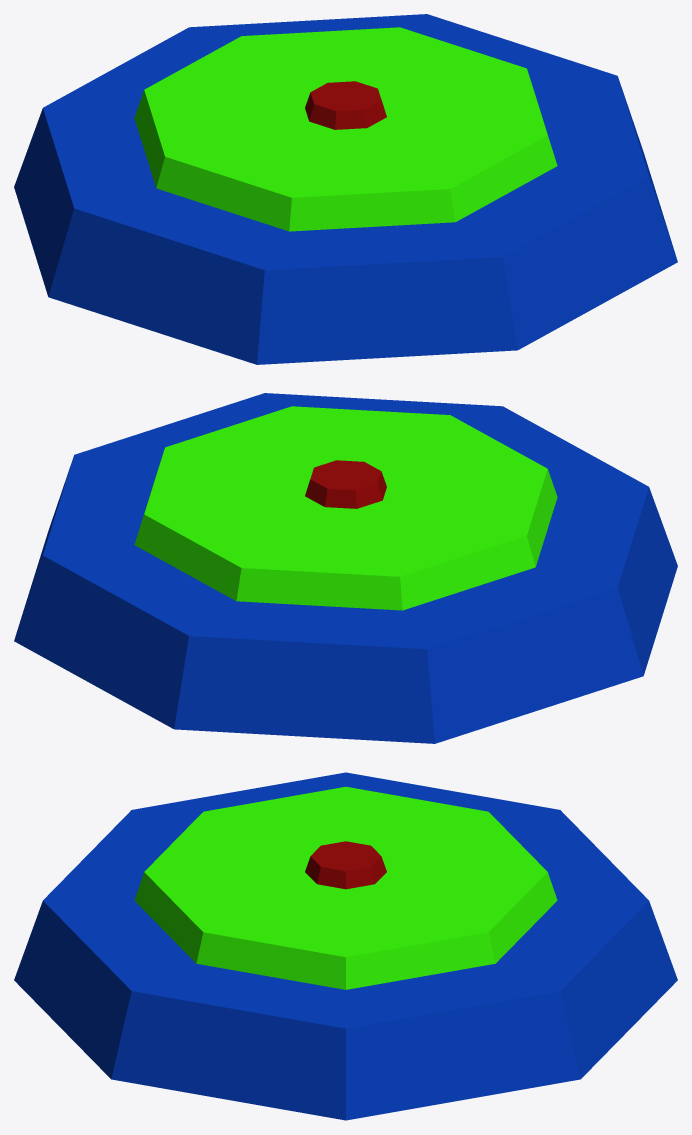
The model's file is mine.fbx.
3 views of the same model, one above another, from view 1: azimuth 30°, elevation 25°; view 2: azimuth 150°, elevation 25°; view 3: azimuth 270°, elevation 25° (orthographic). The views are drawn at different scales.
Visible parts, largest first — view 1: Cylinder; view 2: Cylinder; view 3: Cylinder.
Part boxes in pixels (bbox=[...]): Cylinder: bbox=[14, 14, 677, 364]; Cylinder: bbox=[14, 393, 677, 743]; Cylinder: bbox=[14, 772, 677, 1120].
Size of the model in its own units: 2.19 by 0.4513 by 2.19.
